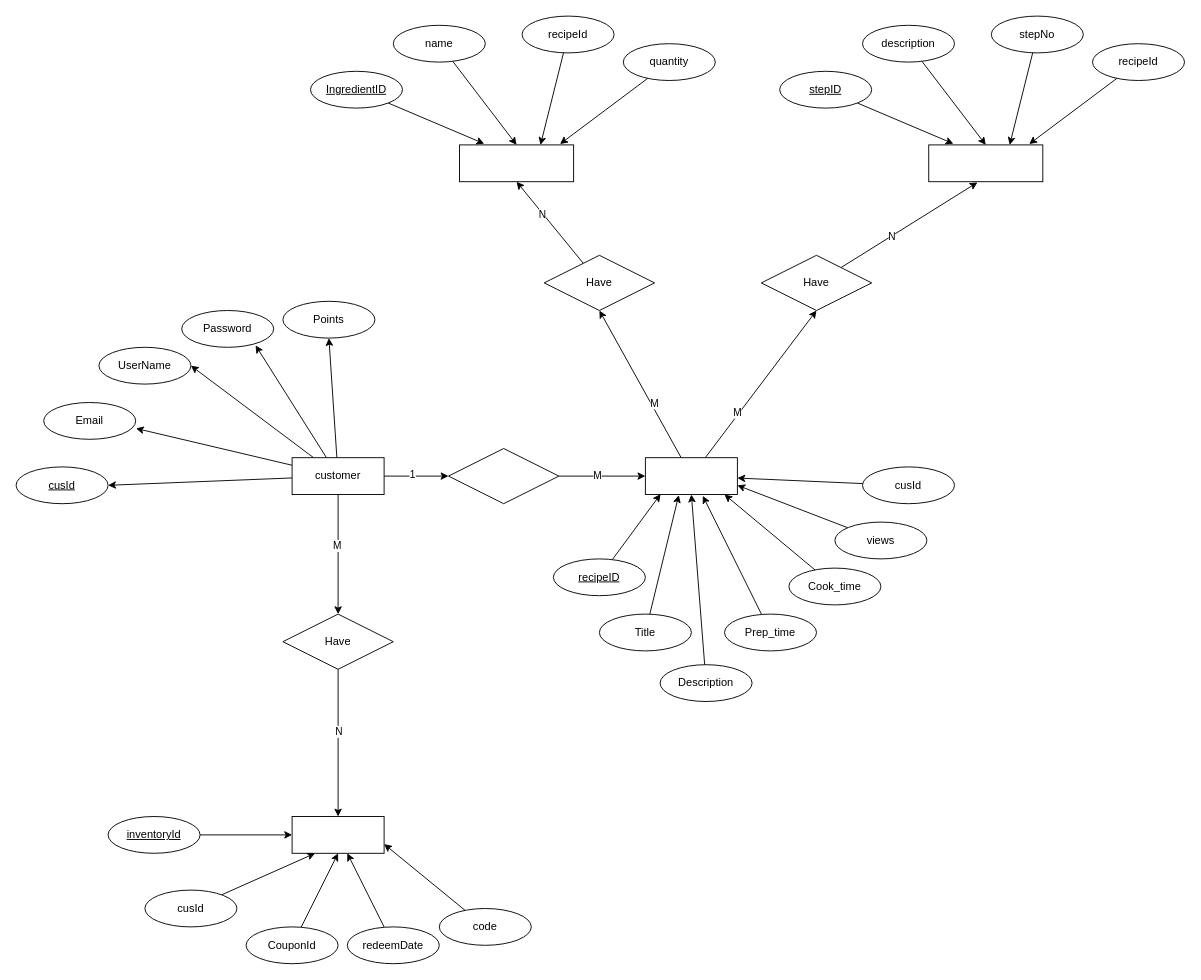
Image size: 1201x980. Some labels were removed from this diagram. Each missing label, with the centre of its shape:
"inventory" belongs at (x=337, y=834).
"recipe_ingredients" belongs at (x=516, y=163).
"recipe_steps" belongs at (x=985, y=163).
"Recipes" belongs at (x=690, y=475).
"submit" belongs at (x=503, y=476).
